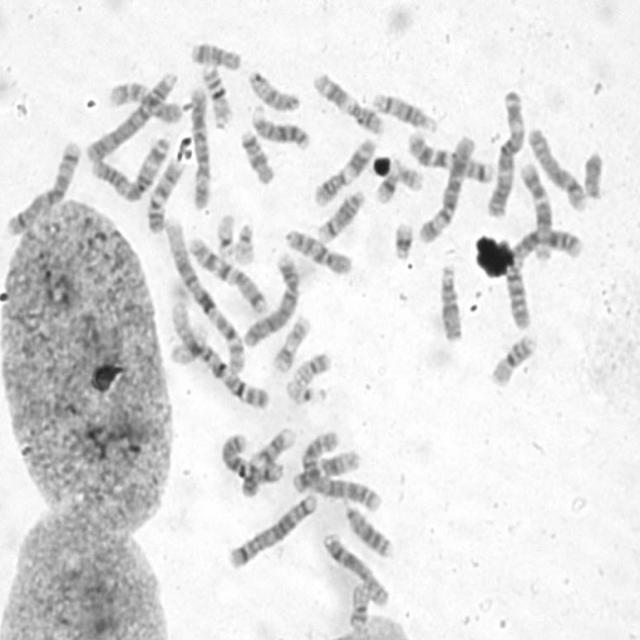A1: (162, 216, 249, 377), (170, 299, 274, 412)
A2: (505, 228, 583, 332), (298, 430, 384, 514)
A3: (91, 135, 172, 202), (486, 90, 526, 220)
B4: (85, 72, 181, 162), (242, 251, 300, 348)
B5: (5, 138, 81, 236), (228, 492, 318, 568)
C10: (108, 81, 183, 127), (284, 227, 354, 276)
C11: (310, 70, 387, 138), (312, 136, 378, 208)
C12: (519, 162, 555, 263), (291, 450, 361, 494)
C6: (416, 134, 476, 246), (190, 85, 213, 210)
C7: (187, 236, 270, 318), (404, 128, 494, 184)
C8: (526, 125, 588, 212), (322, 532, 389, 606)
C9: (240, 426, 297, 500), (145, 160, 185, 233)
D13: (340, 499, 395, 560), (251, 103, 311, 149)
D14: (372, 91, 440, 136), (316, 190, 366, 243)
D15: (246, 69, 302, 114), (439, 260, 465, 342)
E16: (488, 333, 538, 389), (200, 64, 234, 130)
E17: (273, 315, 311, 373), (371, 155, 424, 191)
E18: (239, 128, 275, 187), (188, 40, 244, 71)
F19: (168, 323, 209, 366), (215, 212, 235, 260)
F20: (292, 351, 332, 388), (347, 582, 371, 628)
G21: (392, 221, 414, 259), (374, 171, 398, 204)
G22: (282, 379, 332, 408), (232, 221, 258, 266)
X: (219, 433, 285, 483)
Y: (583, 150, 605, 201)
